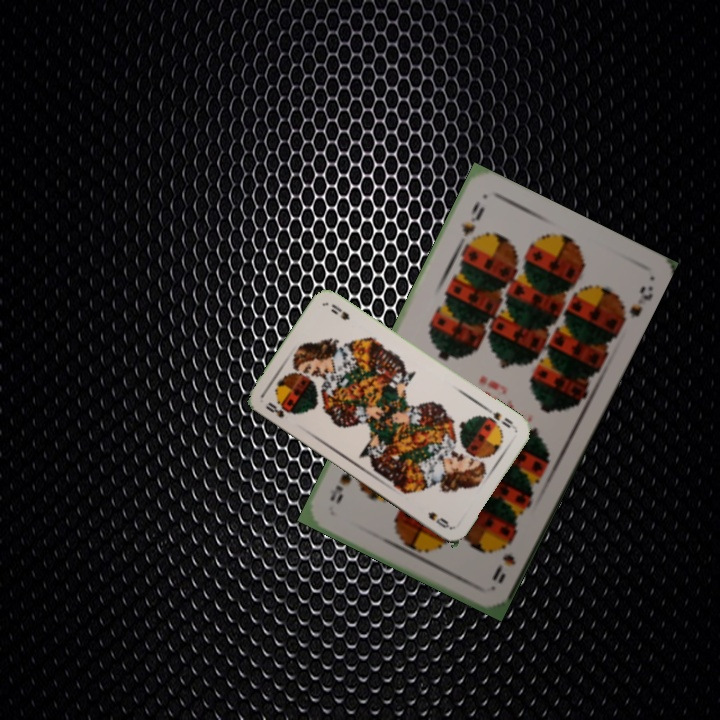S9: (488, 533, 518, 586), (456, 197, 488, 239)
SO: (261, 398, 293, 420), (488, 408, 516, 431)
